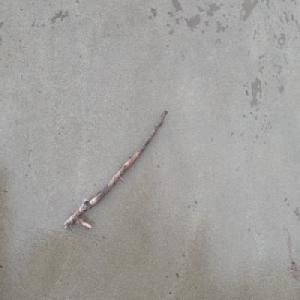Wood: (63, 108, 170, 232)
